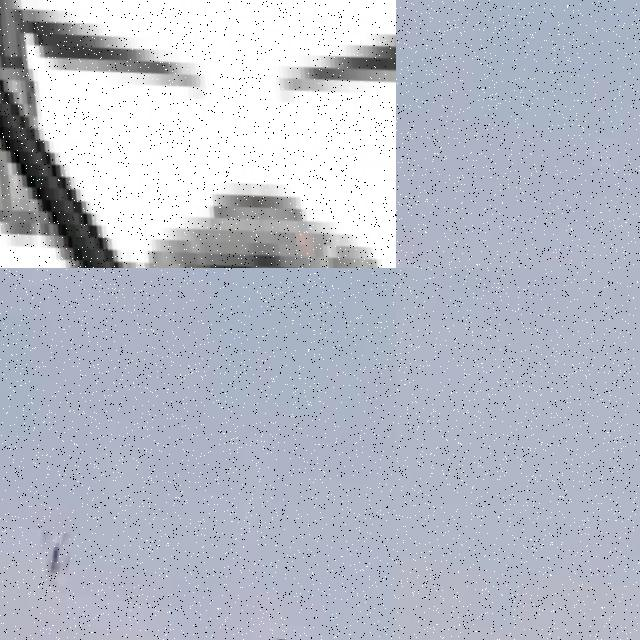drone: (0, 0, 396, 268)
